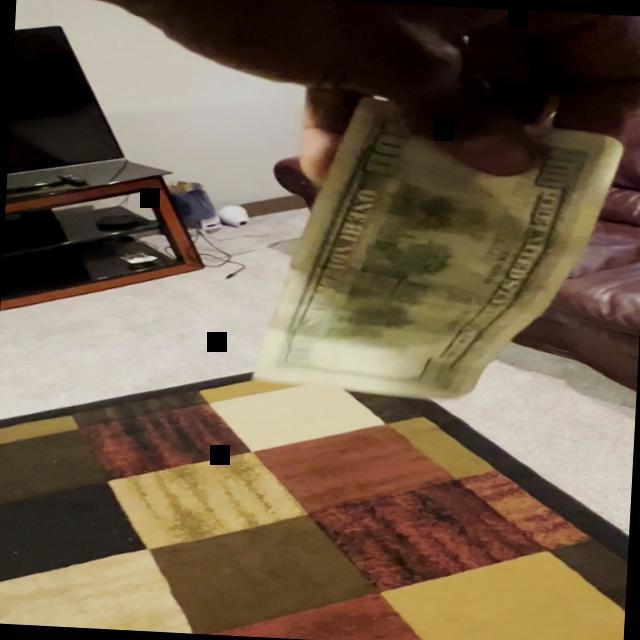hundred: (248, 89, 628, 409)
